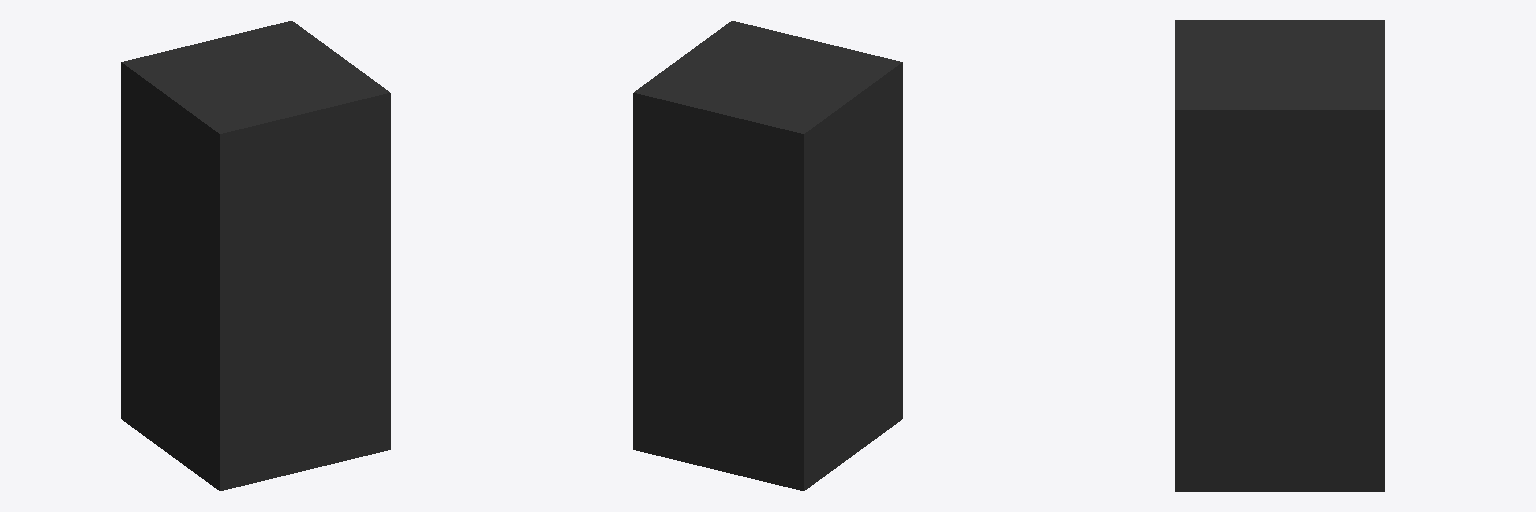
The robot description file, URDF, robot "wall":
<robot name="wall">
  <link name="baseLink">
   
    <inertial>
      <origin rpy="0 0 0" xyz="0 0 0" />
       <mass value="10" />
       <inertia ixx="0" ixy="0" ixz="0" iyy="0" iyz="0" izz="0" />
    </inertial>
    <visual>
      <origin rpy="0 0 0" xyz="0 0 0" />
      <geometry>
			  <box size="0.1 0.1 0.2" />
      </geometry>
       <material name="grey">
        <color rgba="0.24 0.24 0.24 1" />
      </material>
    </visual>
    <collision>
      <origin rpy="0 0 0" xyz="0 0 0" />
      <geometry>
	 	      <box size="0.1 0.1 0.2" />
      </geometry>
    </collision>
  </link>
</robot>

--- What the picture shows (computed from the rendered views, not written in the file) ---
Views: 3 orthographic renders of the robot side by side, from view 1: azimuth 30°, elevation 25°; view 2: azimuth 150°, elevation 25°; view 3: azimuth 270°, elevation 25°.
Robot: wall — 1 links, 0 joints (none); root link baseLink; default pose: all joints at 0.
Visible links, largest first — view 1: baseLink; view 2: baseLink; view 3: baseLink.
Link boxes in pixels (x1,y1,x2,y2): baseLink: (121,21,390,490); baseLink: (633,21,902,490); baseLink: (1175,20,1384,491).
Bounding box of the posed robot: 0.1 × 0.1 × 0.2 m (x, y, z).
Geometry: primitives only (box / cylinder / sphere), no mesh files.
